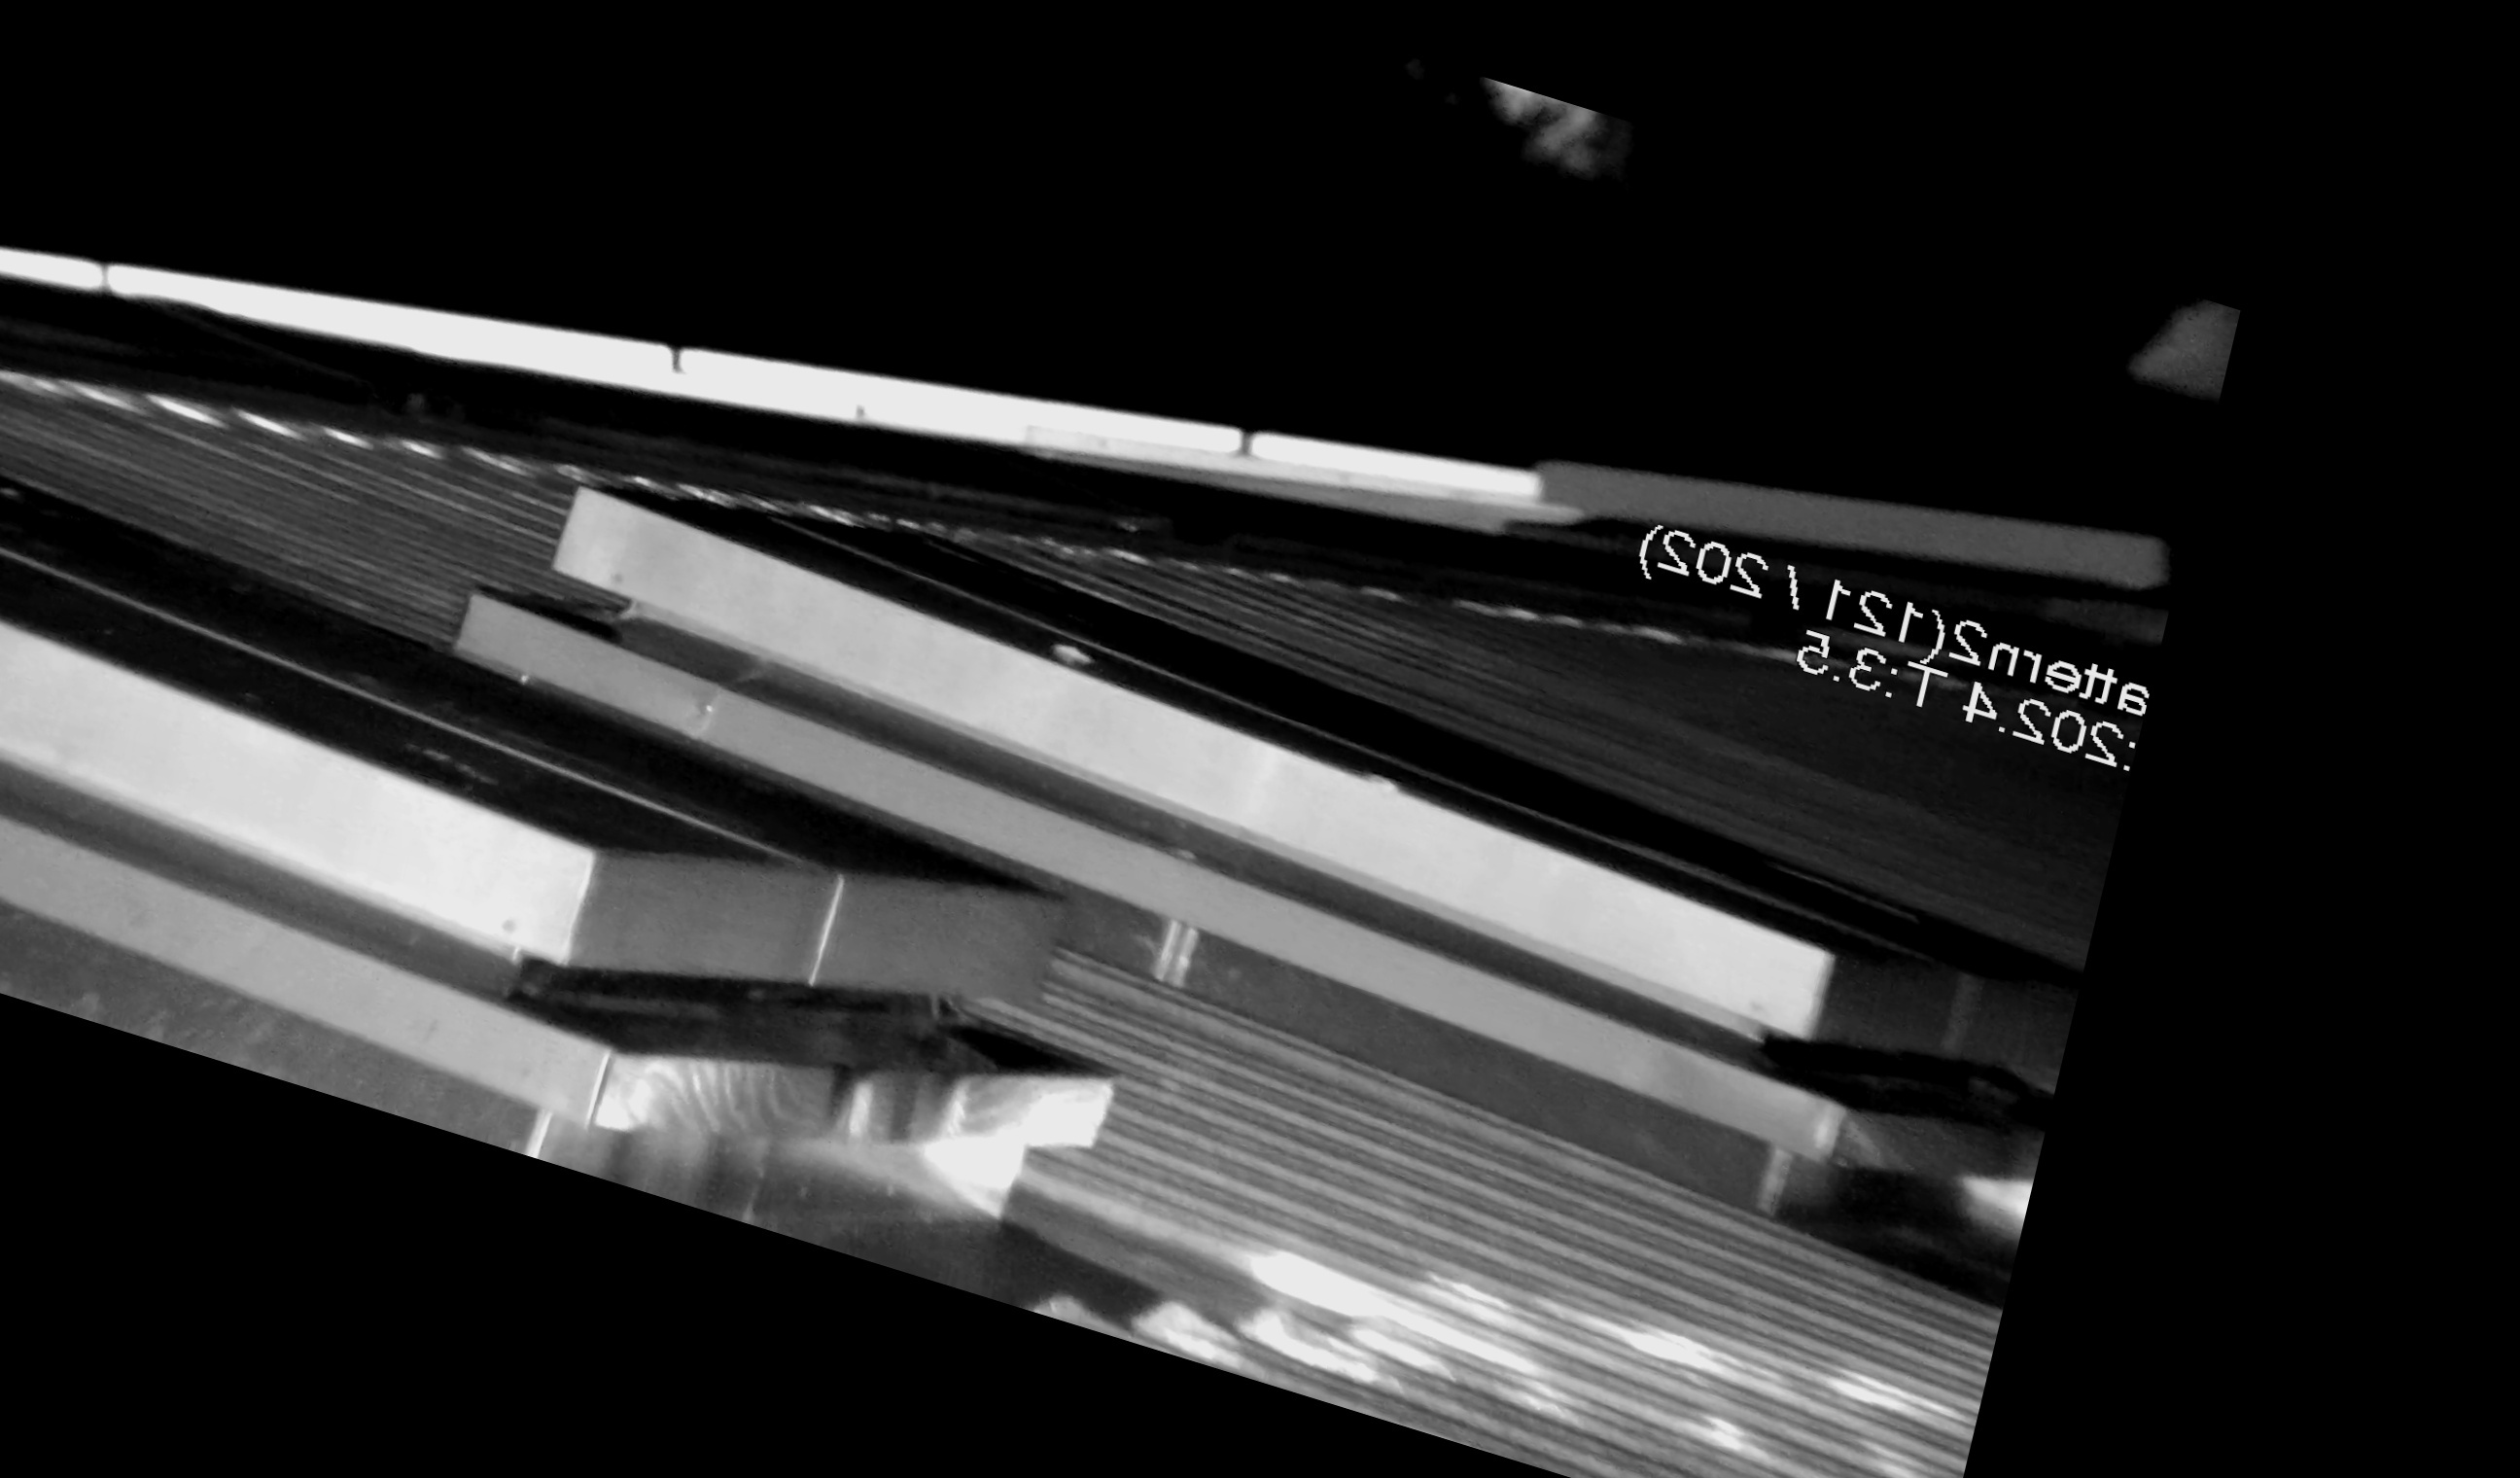Other: (1704, 973, 2237, 1328)
